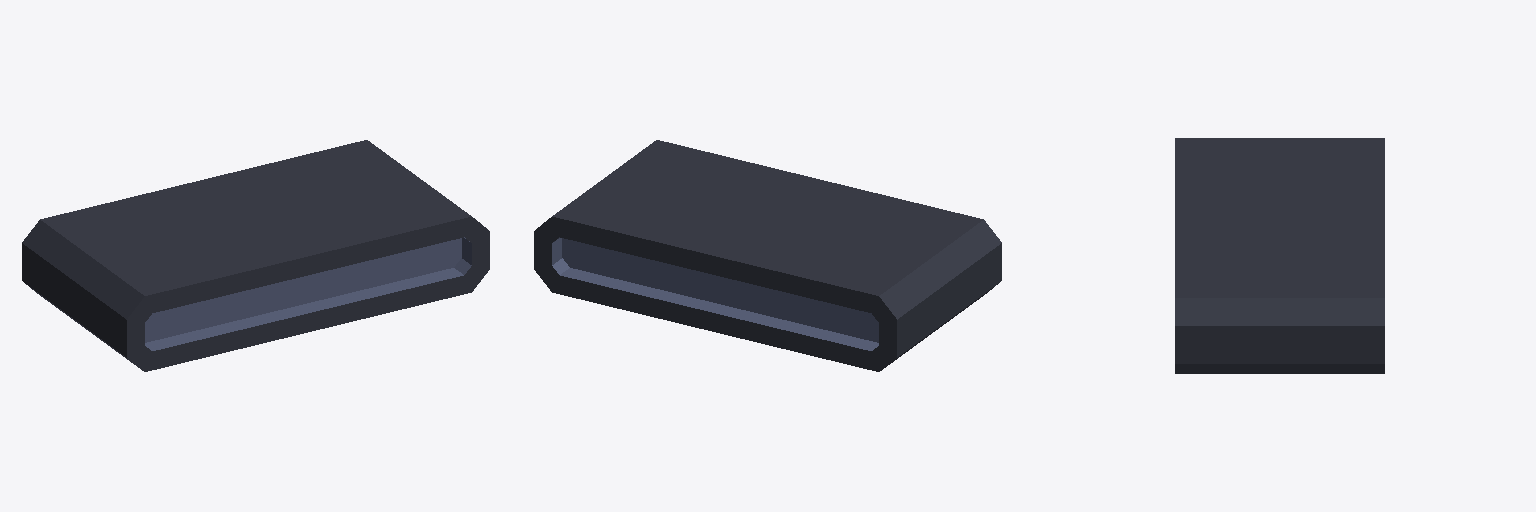
Rendered from conveyor-long.obj.
3 views of the same model, side by side, from view 1: azimuth 30°, elevation 25°; view 2: azimuth 150°, elevation 25°; view 3: azimuth 270°, elevation 25° (orthographic).
Parts seen in each view (by area): view 1: conveyor-long; view 2: conveyor-long; view 3: conveyor-long.
Boxes of the visible parts, box(x1,y1,x2,y2) form: conveyor-long: box(22, 140, 489, 371); conveyor-long: box(534, 140, 1001, 371); conveyor-long: box(1175, 138, 1384, 373).
Bounding box in the file's own units: 2 × 0.4 × 1.